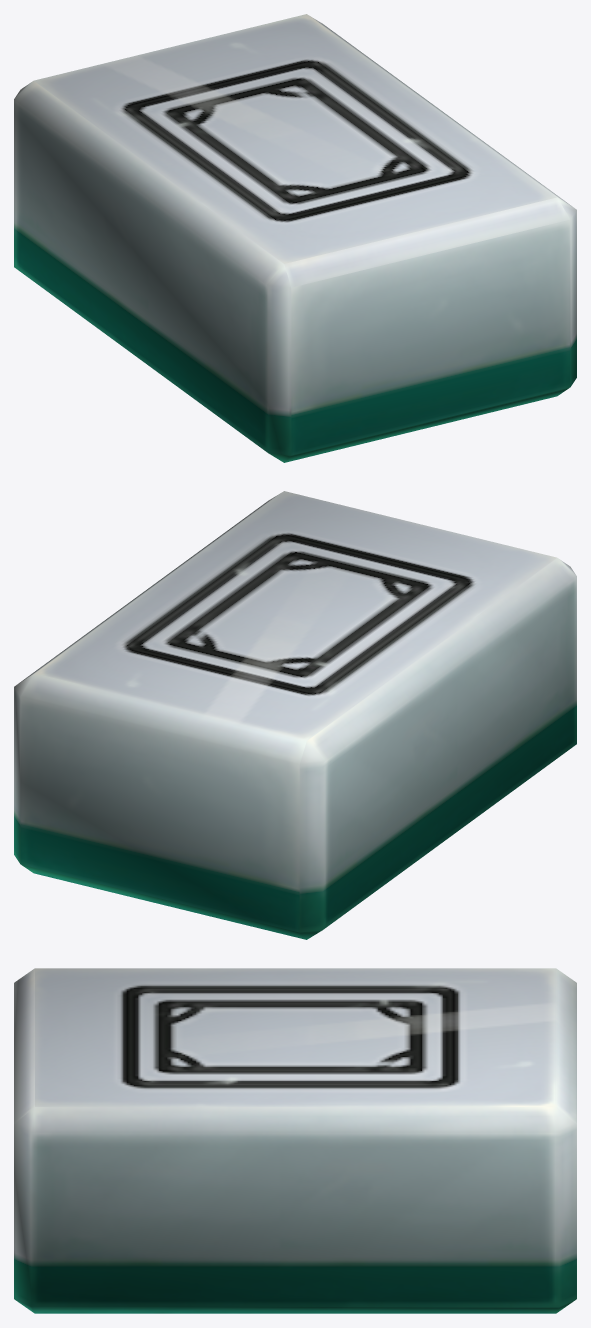
The model's file is baiban.FBX.
3 renders of one model, top to bottom at view 1: azimuth 30°, elevation 25°; view 2: azimuth 150°, elevation 25°; view 3: azimuth 270°, elevation 25°, orthographic. The views are drawn at different scales.
Parts seen in each view (by area): view 1: baiban; view 2: baiban; view 3: baiban.
Boxes of the visible parts, x1,y1,x2,y2 form: baiban: (14, 14, 576, 462); baiban: (14, 491, 576, 939); baiban: (14, 968, 576, 1313).
Bounding box in the file's own units: 20.77 × 12.78 × 31.51.
Materials: 1 (1 with a texture image).
